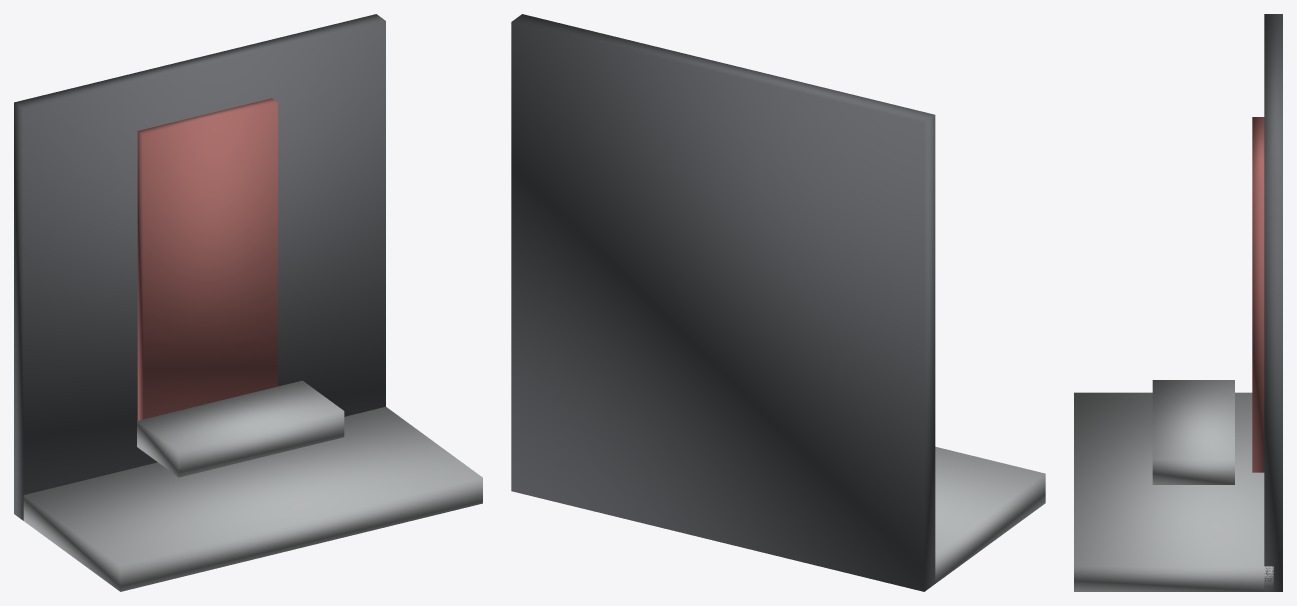
File: roof_access_hatch_stair_16.glb
3 renders of one model, left to right at view 1: azimuth 30°, elevation 25°; view 2: azimuth 150°, elevation 25°; view 3: azimuth 270°, elevation 25°, orthographic. The views are drawn at different scales.
Visible parts, largest first — view 1: world; view 2: world; view 3: world.
Boxes of the visible parts, x1,y1,x2,y2 form: world: (14, 14, 482, 591); world: (511, 14, 1045, 591); world: (1074, 14, 1282, 591).
Size of the model in its own units: 1.75 by 1.9 by 0.89.
